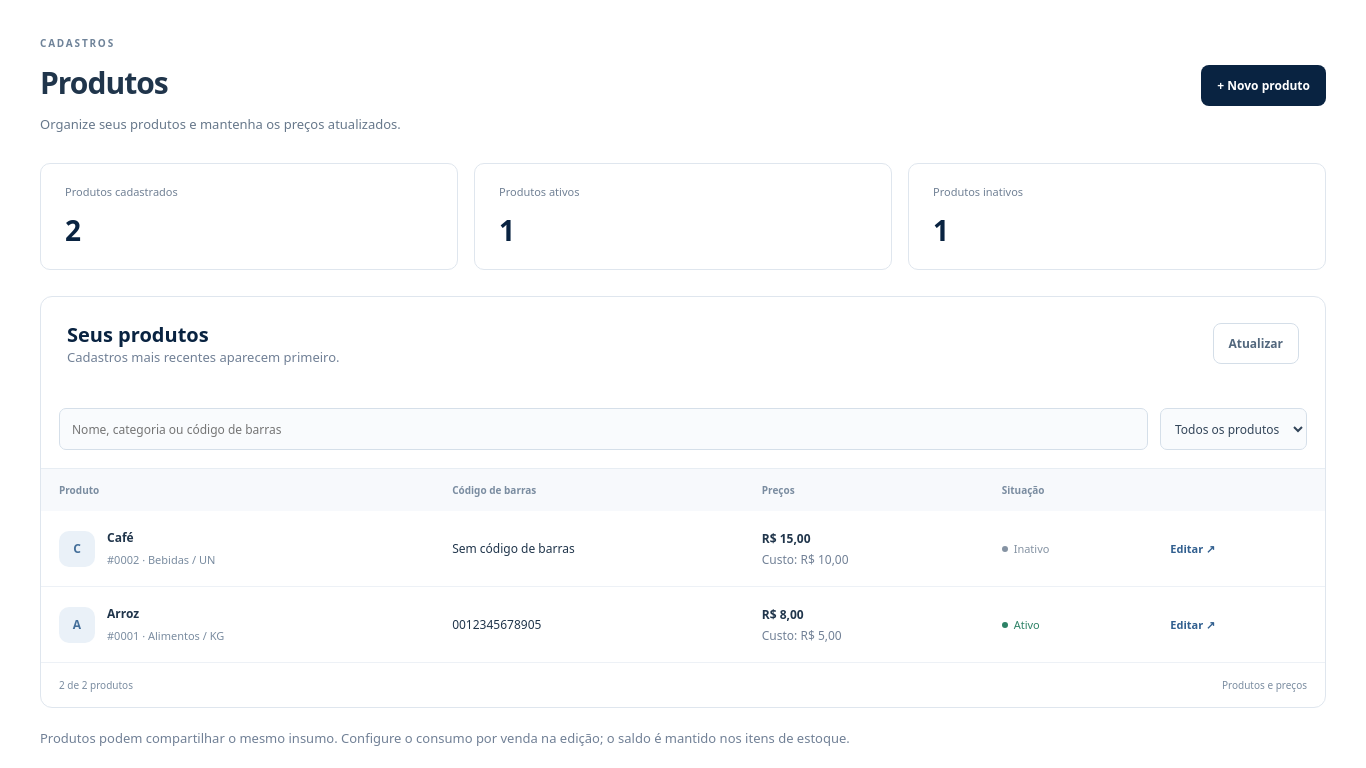
Test: keeps the dialog open for consecutive registrations and closes on ordinary save
Expected: the text "Arroz" is shown, [107,605,139,622]
Step 1. Click the button "+ Novo produto" → click(1264, 86), box [1201,65,1326,106]
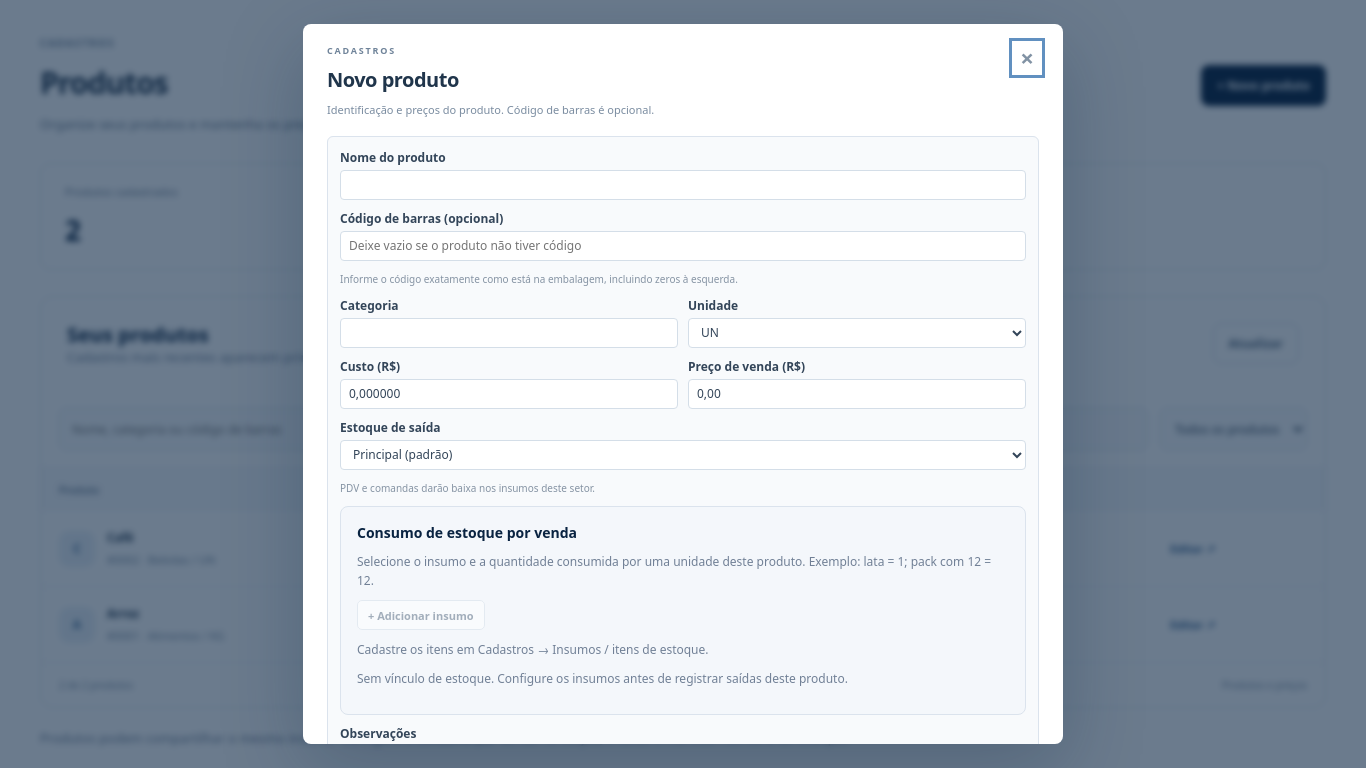
Step 2. Type "Primeiro" into the field labelled "Nome do produto" → (683, 185), box [340,170,1026,200]
(page scrolled)
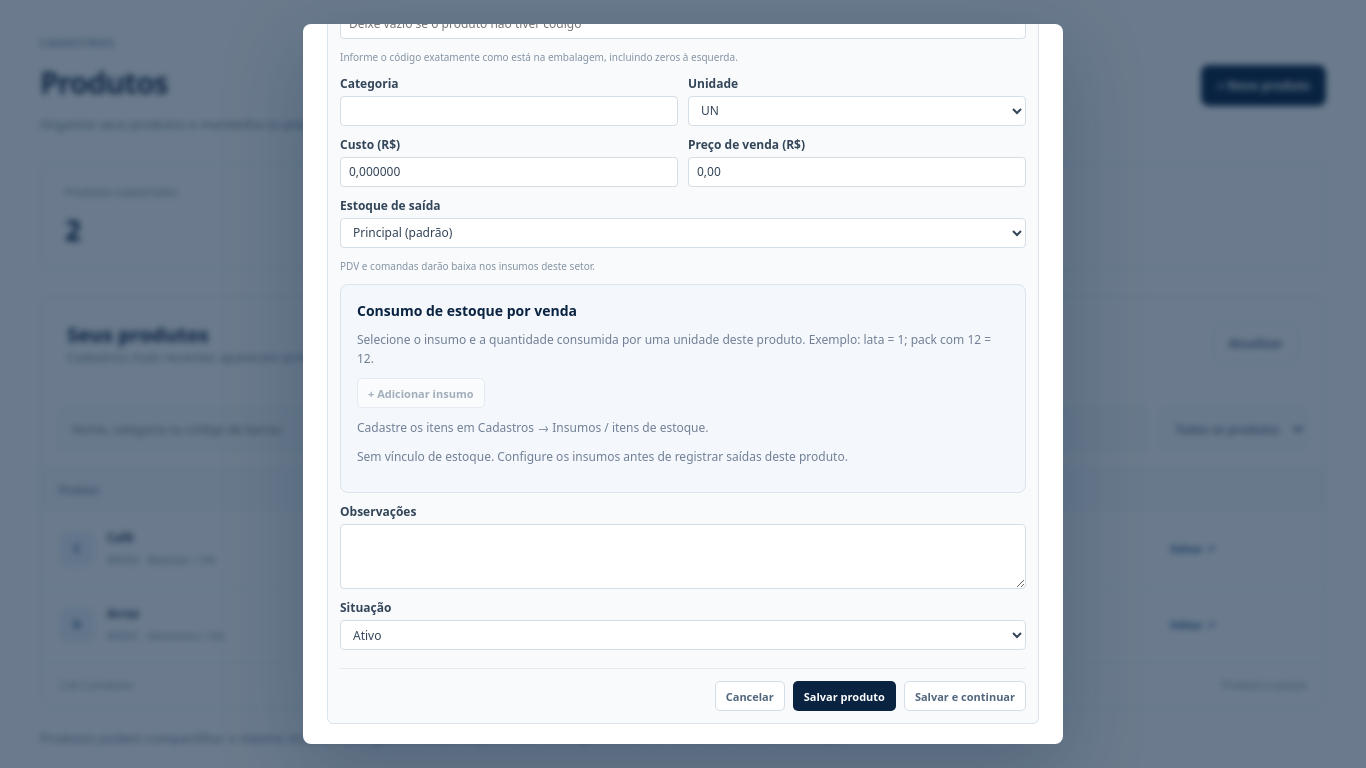
Step 3. Click the button "Salvar e continuar" → click(965, 696), box [904,681,1026,711]
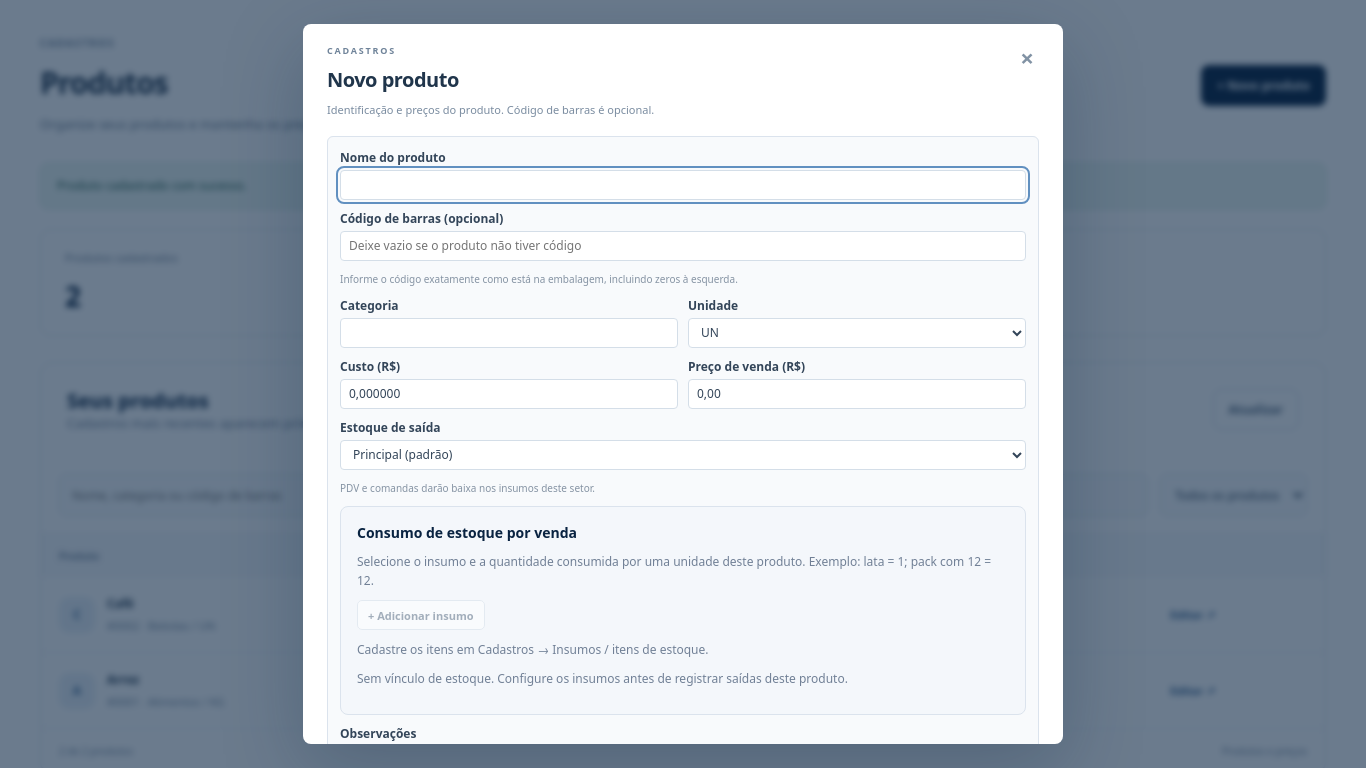
Result: the dialog is shown at [303,24,1063,744]
Result: the field labelled "Nome do produto" is empty
Step 4. Type "Segundo" into the field labelled "Nome do produto" → (683, 185), box [340,170,1026,200]
(page scrolled)
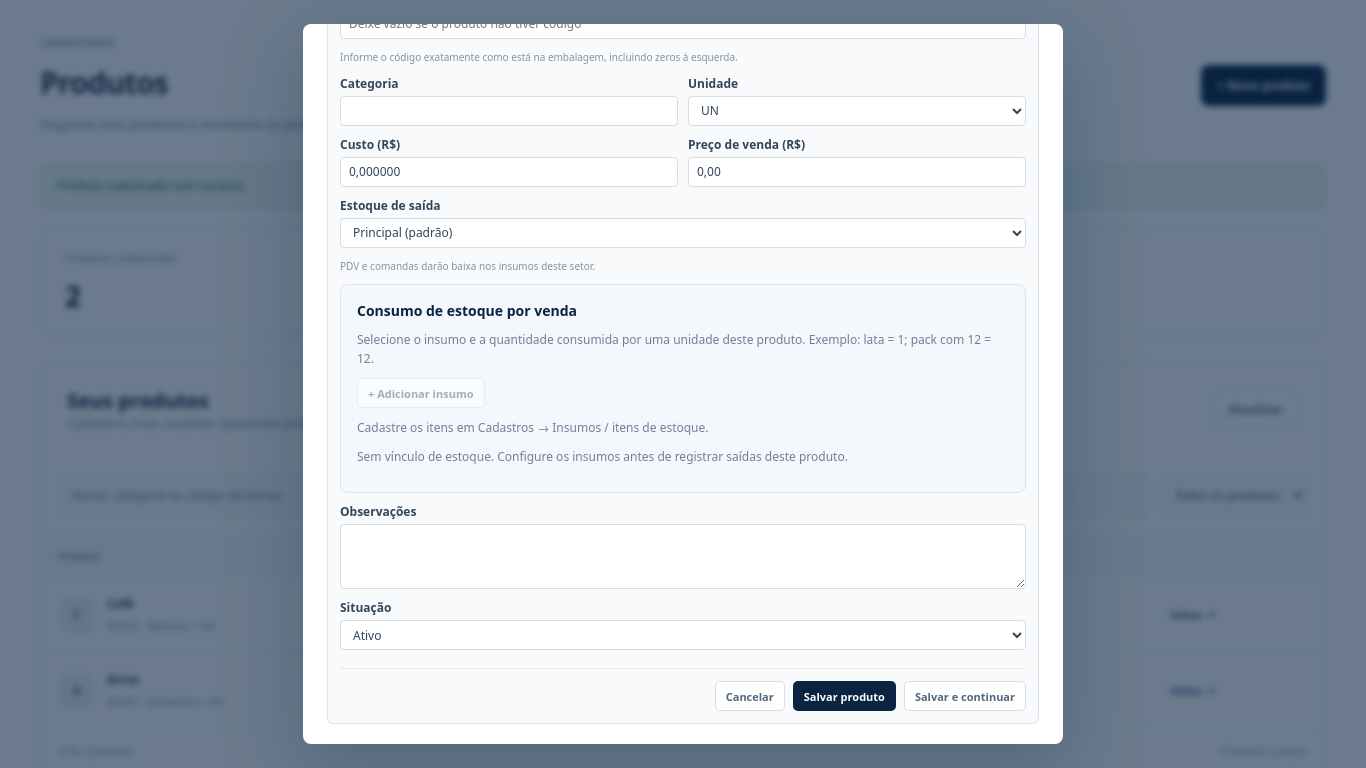
Step 5. Click the button "Salvar produto" → click(844, 696), box [793,681,896,711]
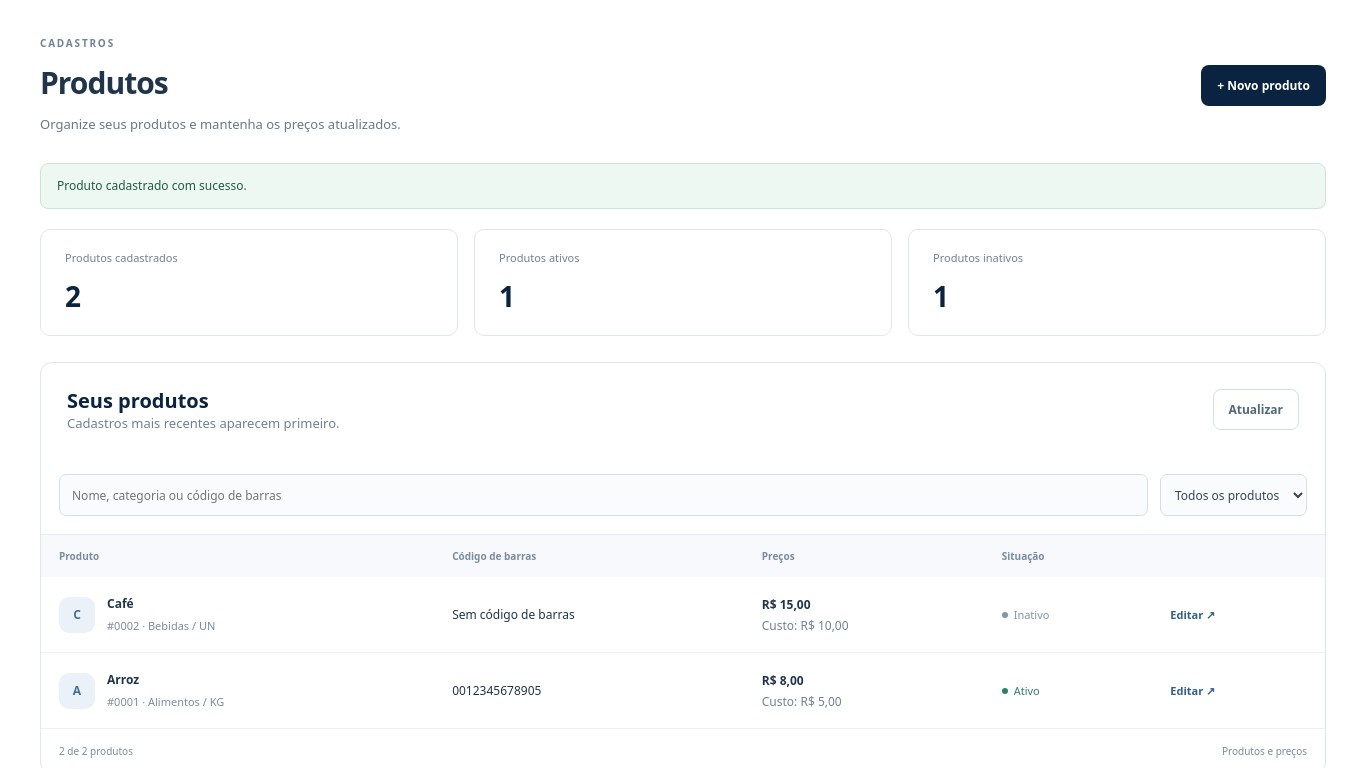
Result: the dialog is gone
